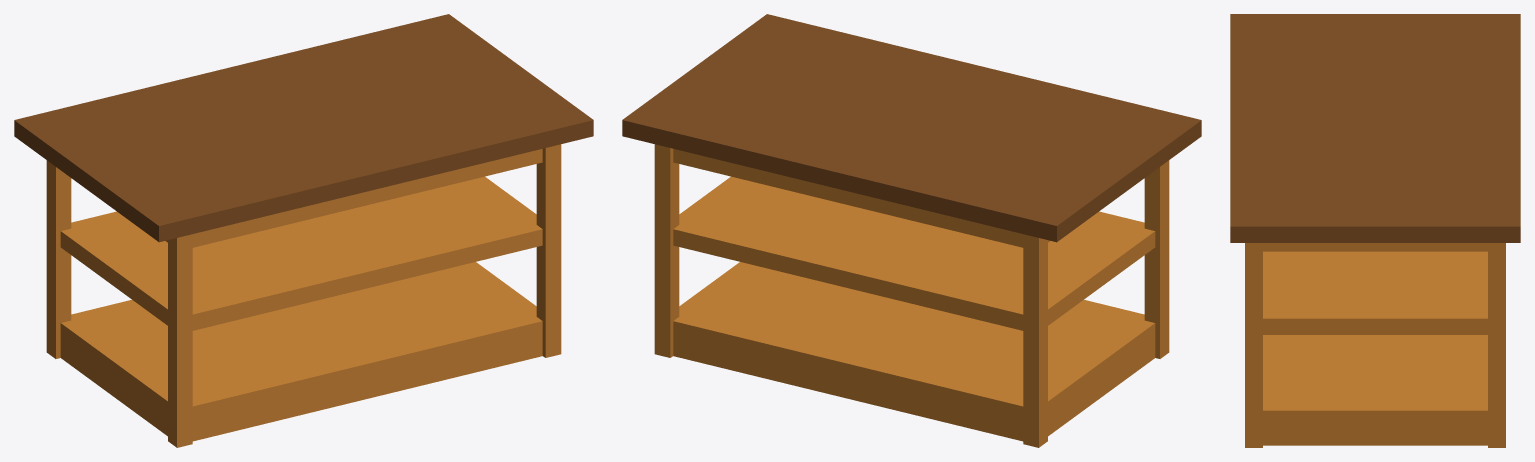
The model's file is kitchen island.fbx.
3 renders of one model, left to right at view 1: azimuth 30°, elevation 25°; view 2: azimuth 150°, elevation 25°; view 3: azimuth 270°, elevation 25°, orthographic.
Visible parts, largest first — view 1: island; view 2: island; view 3: island.
Part boxes in pixels (x1=…): island: x1=14, y1=14, x2=593, y2=447; island: x1=622, y1=14, x2=1201, y2=447; island: x1=1230, y1=14, x2=1520, y2=447.
Size of the model in its own units: 195 by 100 by 112.
